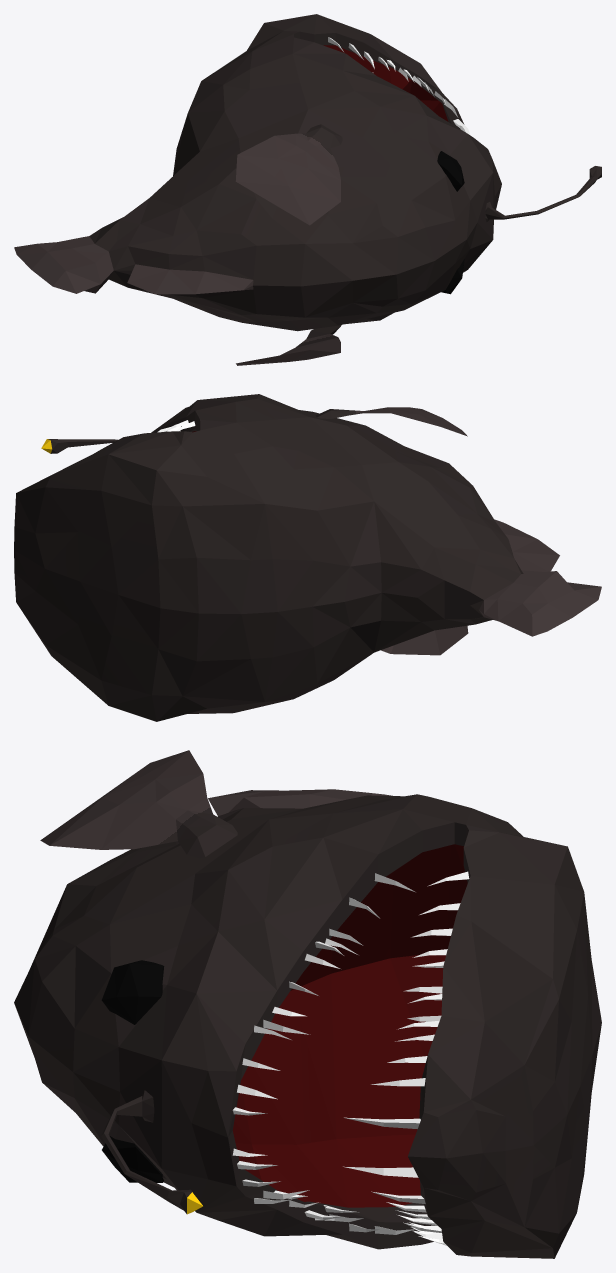
File: Anglerfish.glb
The picture shows the model from 3 angles, top to bottom: view 1: azimuth 30°, elevation 25°; view 2: azimuth 150°, elevation 25°; view 3: azimuth 270°, elevation 25°; orthographic projection. The views are drawn at different scales.
Parts seen in each view (by area): view 1: Anglerfish; view 2: Anglerfish; view 3: Anglerfish.
Part boxes in pixels (x1,y1,x2,y2): Anglerfish: [14, 14, 601, 365]; Anglerfish: [14, 394, 601, 721]; Anglerfish: [14, 750, 601, 1258].
Size of the model in its own units: 0.7448 by 0.3458 by 0.4447.
1 material, 1 textured.
